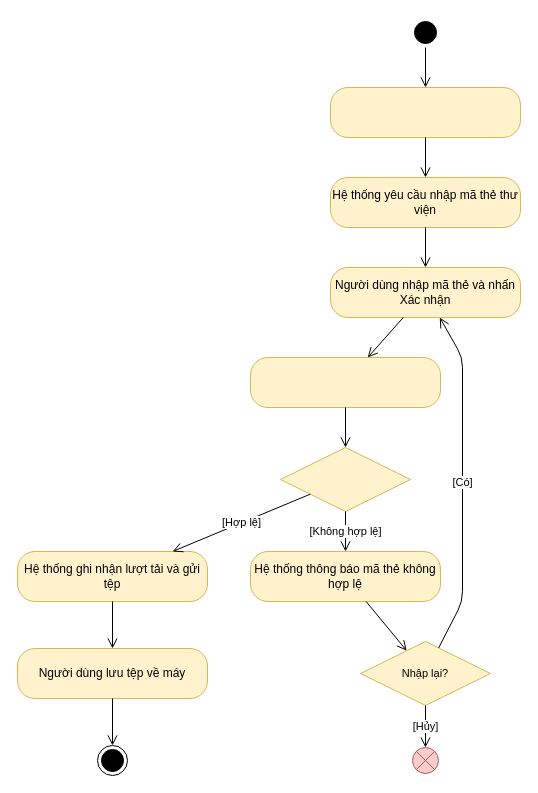
This 538x793 diagram has some shape labels left out. Here are the shapes that lost their labels. From the top down, the box of each, then its label:
(330, 86, 520, 138): Người dùng nhấn Tải về
(250, 356, 440, 408): Hệ thống xác thực mã thẻ (UC14)
(280, 446, 410, 512): Mã thẻ hợp lệ?
